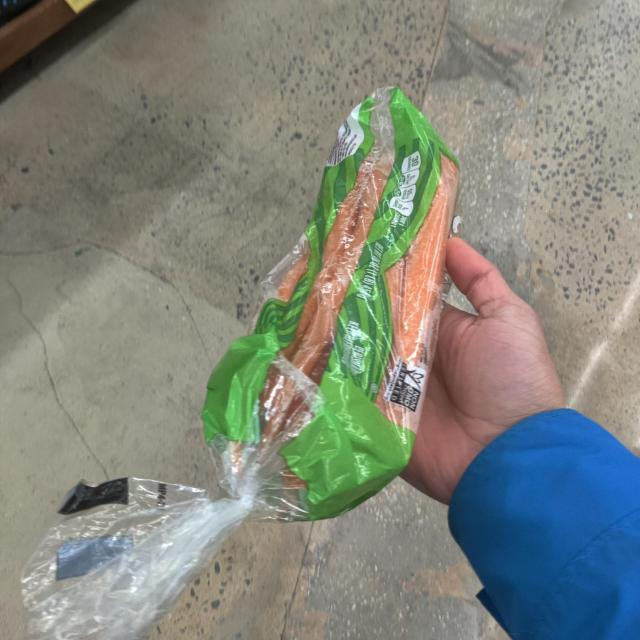Carrots: (217, 88, 465, 509)
